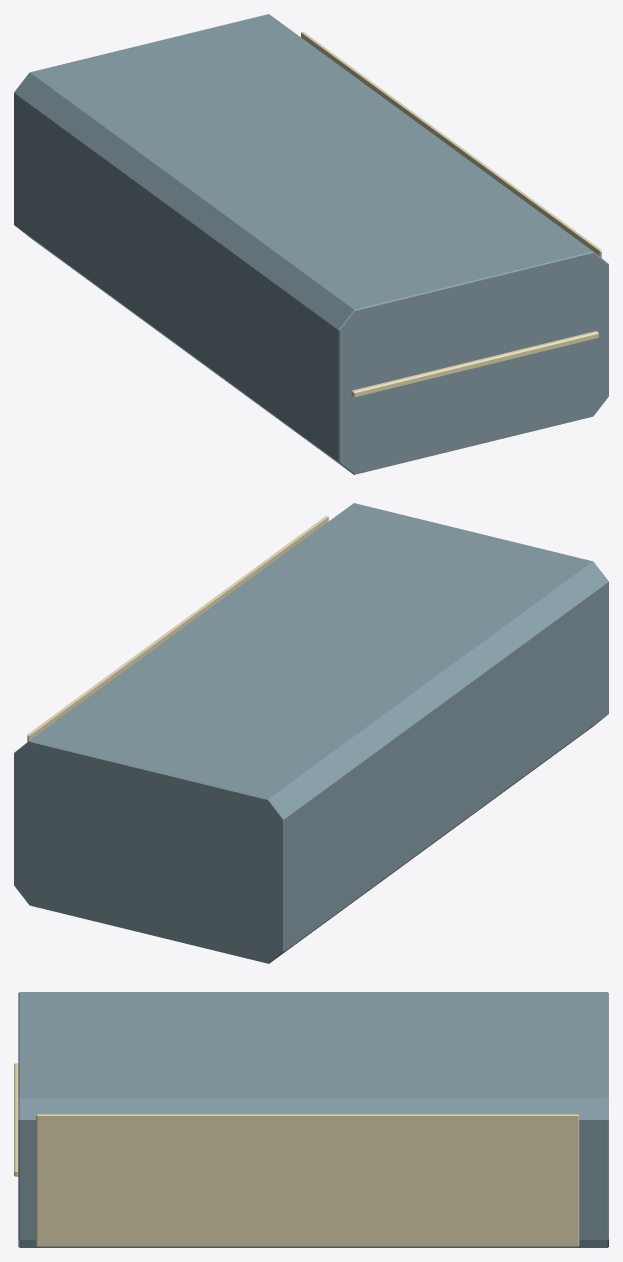
File: baby_cereal.glb
The picture shows the model from 3 angles, top to bottom: view 1: azimuth 30°, elevation 25°; view 2: azimuth 150°, elevation 25°; view 3: azimuth 270°, elevation 25°; orthographic projection. The views are drawn at different scales.
Parts seen in each view (by area): view 1: baby_cereal; view 2: baby_cereal; view 3: baby_cereal.
Part boxes in pixels (<box>): baby_cereal: <box>14,14,608,474</box>; baby_cereal: <box>14,503,608,963</box>; baby_cereal: <box>14,992,608,1247</box>.
Size of the model in its own units: 0.097 by 0.059 by 0.2015.
